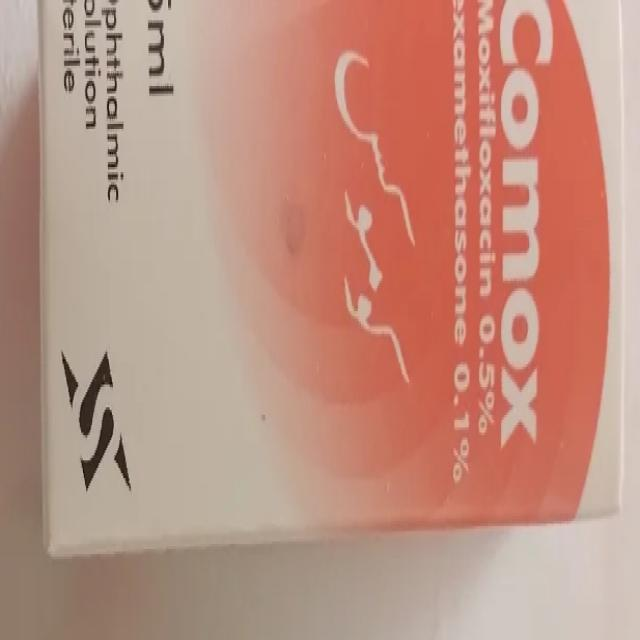drug-name: (499, 0, 556, 446)
